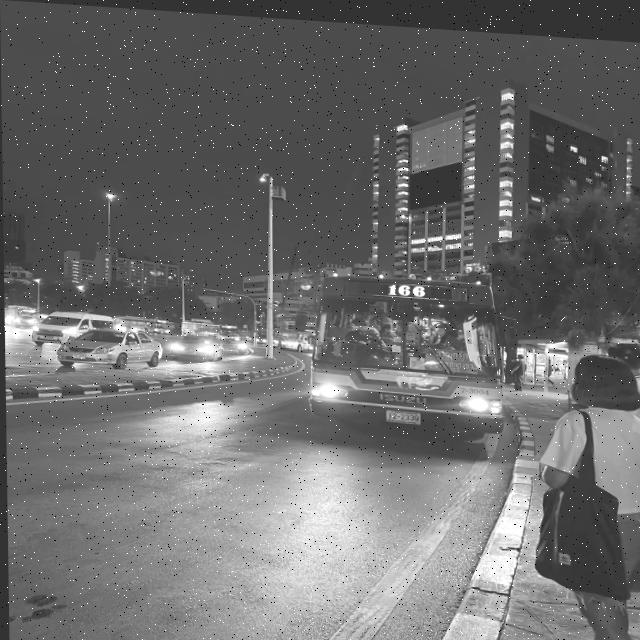BMTA-bus: (305, 263, 509, 433)
Bus-Line-Number: (382, 276, 431, 294)
Destination-Sign-Extra-Bus: (423, 341, 479, 366)
